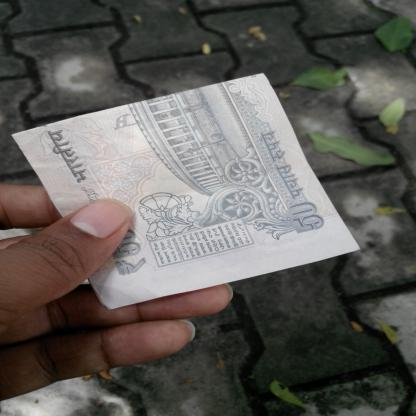Old50Back: (10, 71, 361, 310)
